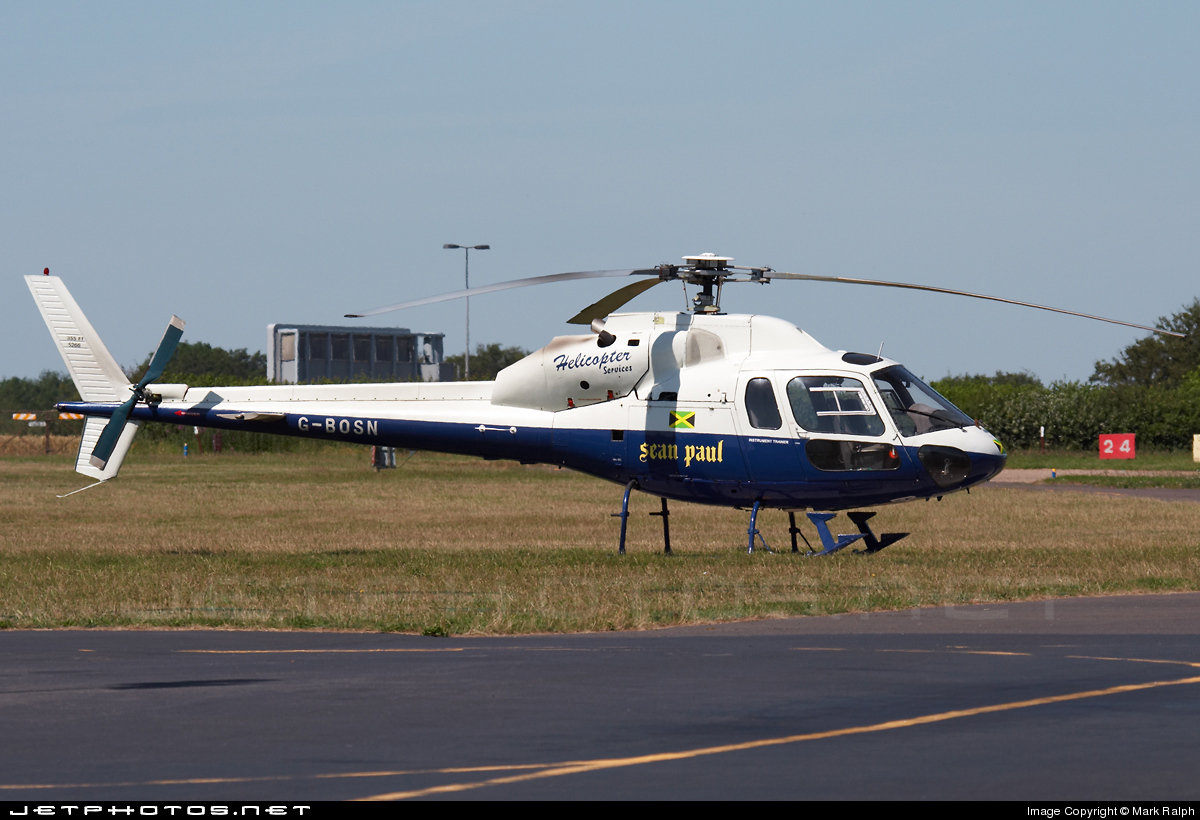number: (292, 415, 382, 440)
